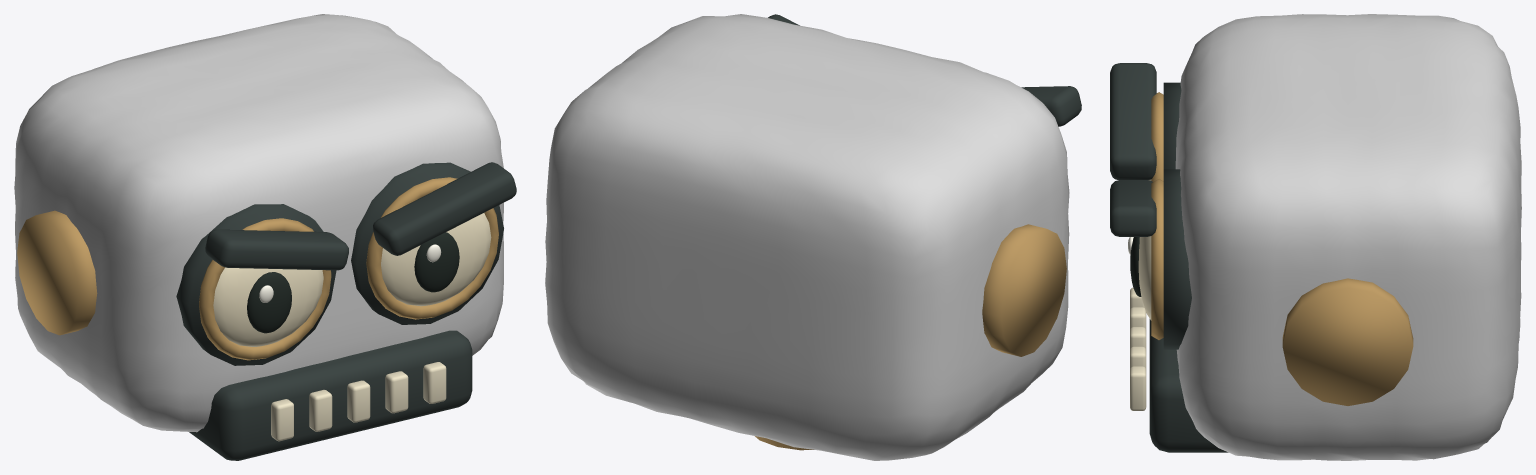
File: brute-head-0.glb
The picture shows the model from 3 angles, left to right: view 1: azimuth 30°, elevation 25°; view 2: azimuth 150°, elevation 25°; view 3: azimuth 270°, elevation 25°; orthographic projection. The views are drawn at different scales.
Parts seen in each view (by area): view 1: head_clay, head_mechanism, head_brass, head_lens, head_ivory, head_pupil; view 2: head_clay, head_brass, head_mechanism; view 3: head_clay, head_mechanism, head_brass, head_ivory, head_lens, head_pupil.
Boxes of the visible parts, x1,y1,x2,y2 form: head_clay: (14, 14, 503, 432); head_mechanism: (176, 162, 516, 460); head_brass: (17, 177, 498, 360); head_lens: (213, 213, 491, 346); head_ivory: (271, 362, 446, 441); head_pupil: (247, 232, 459, 333); head_clay: (545, 14, 1069, 460); head_brass: (755, 224, 1066, 450); head_mechanism: (768, 14, 1081, 126); head_clay: (1175, 14, 1521, 460); head_mechanism: (1110, 63, 1228, 452); head_brass: (1151, 92, 1413, 405); head_ivory: (1130, 287, 1146, 410); head_lens: (1138, 179, 1151, 320); head_pupil: (1130, 237, 1141, 296).
Bounding box in the file's own units: 1.11 × 0.8077 × 0.8831.
